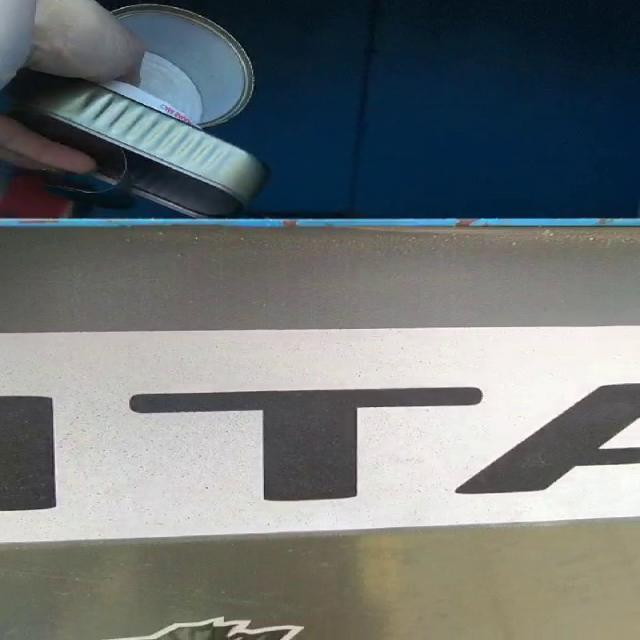Bin: (1, 0, 639, 334), (0, 519, 639, 640)
Metal: (0, 4, 267, 217)
